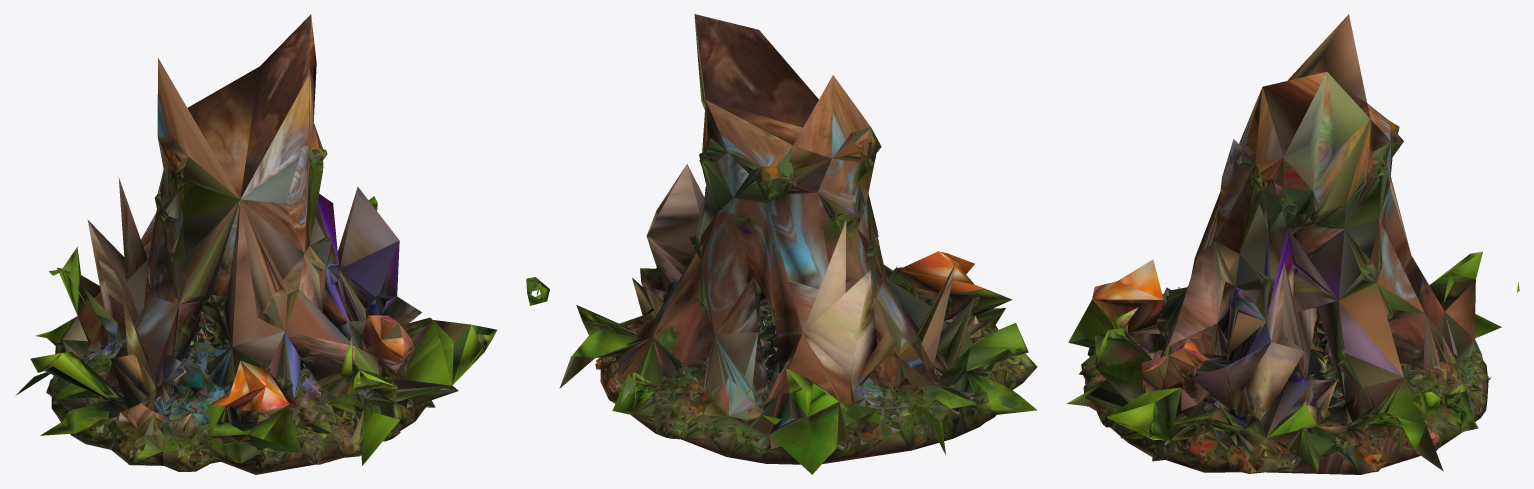
The model's file is a_stylized_stump_base.glb.
3 renders of one model, left to right at view 1: azimuth 30°, elevation 25°; view 2: azimuth 150°, elevation 25°; view 3: azimuth 270°, elevation 25°, orthographic. The views are drawn at different scales.
Parts seen in each view (by area): view 1: a_stylized_stump_base; view 2: a_stylized_stump_base; view 3: a_stylized_stump_base.
Boxes of the visible parts, bbox=[...] form: a_stylized_stump_base: bbox=[15, 14, 497, 474]; a_stylized_stump_base: bbox=[526, 14, 1037, 474]; a_stylized_stump_base: bbox=[1067, 14, 1519, 474].
Size of the model in its own units: 1.88 by 1.51 by 1.67.
1 material, 1 textured.
